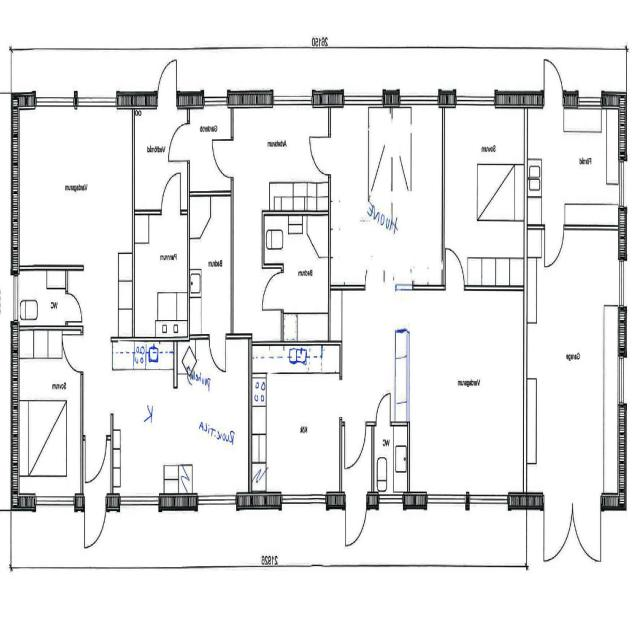door: (572, 492, 601, 565), (544, 492, 572, 565), (345, 492, 367, 551), (85, 492, 106, 550), (544, 54, 563, 108), (85, 436, 107, 482), (158, 55, 177, 108), (345, 421, 366, 468), (309, 136, 331, 175), (168, 122, 190, 160), (262, 272, 284, 310), (545, 225, 564, 268), (212, 140, 234, 177), (162, 172, 180, 215), (446, 248, 464, 290), (63, 334, 83, 370), (210, 334, 226, 371), (376, 392, 390, 426), (66, 292, 82, 321)
